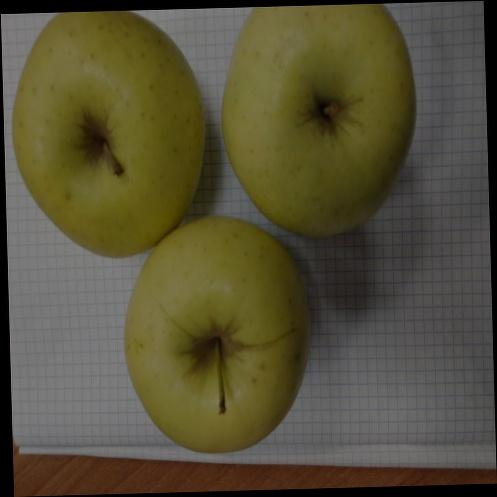green apple: (11, 11, 206, 260), (221, 5, 420, 237), (123, 212, 311, 455)
